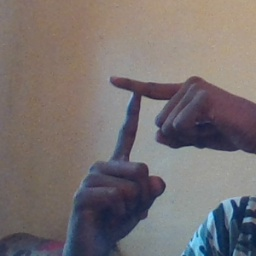T: (81, 64, 193, 181)
